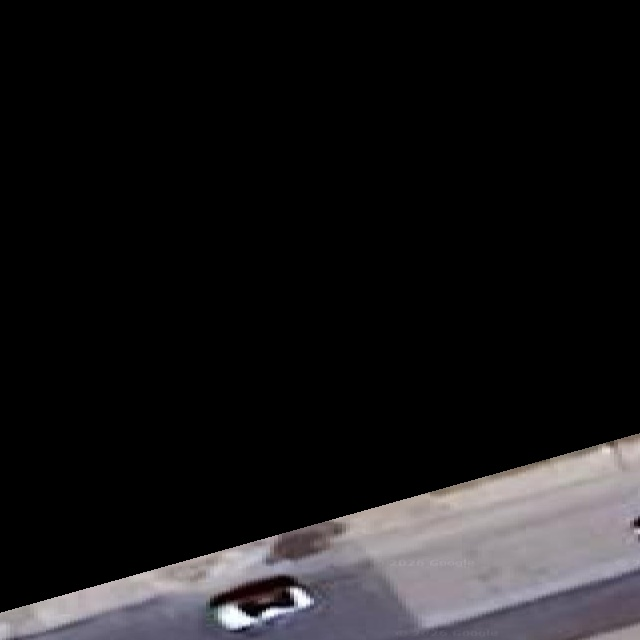car: (208, 575, 312, 630), (632, 515, 639, 539)
